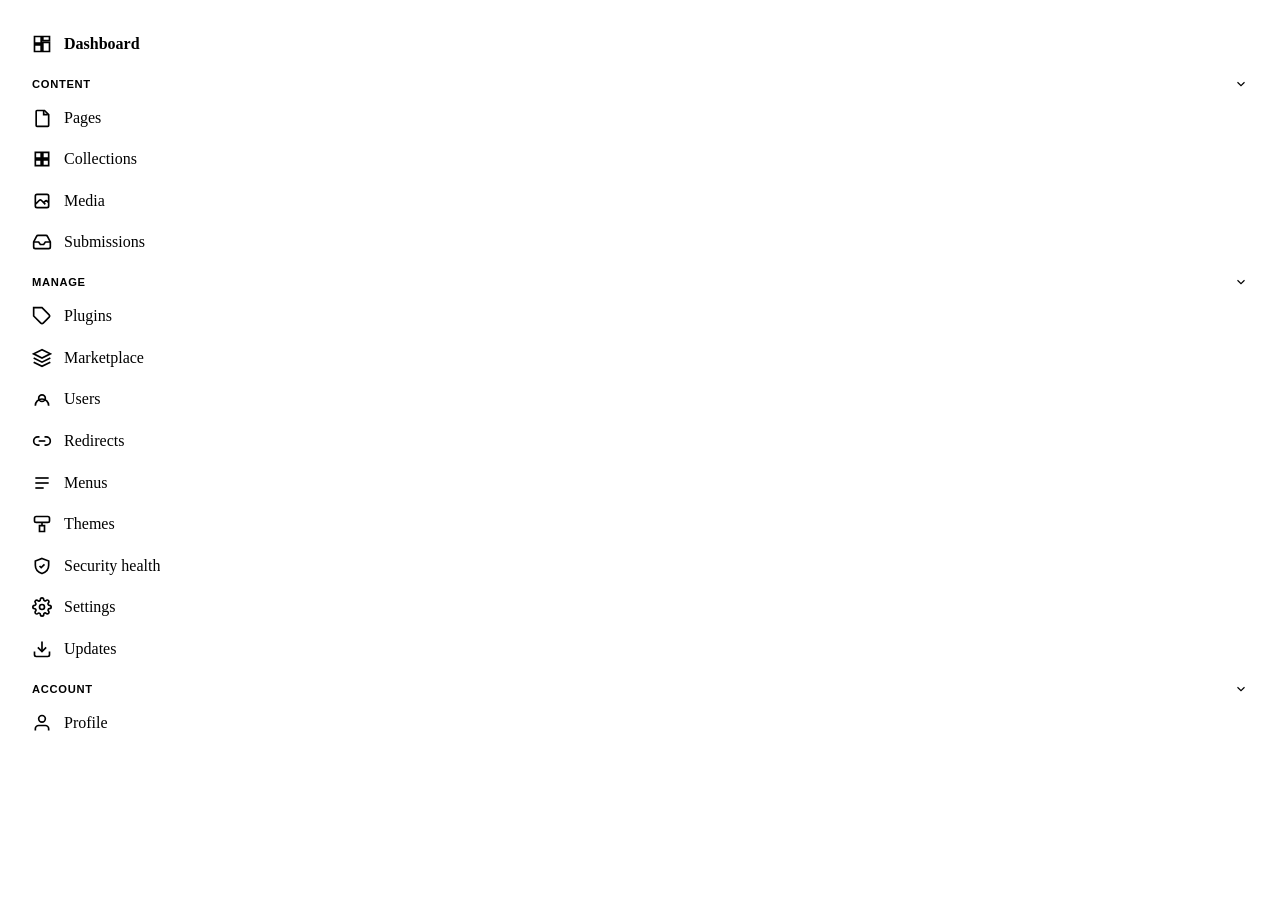
Sidebar › collapses and expands a group from its header, with aria-expanded tracking it
Click the button with class "nav-group-header" showing "Content" at (61, 84), box [20,71,1260,96]
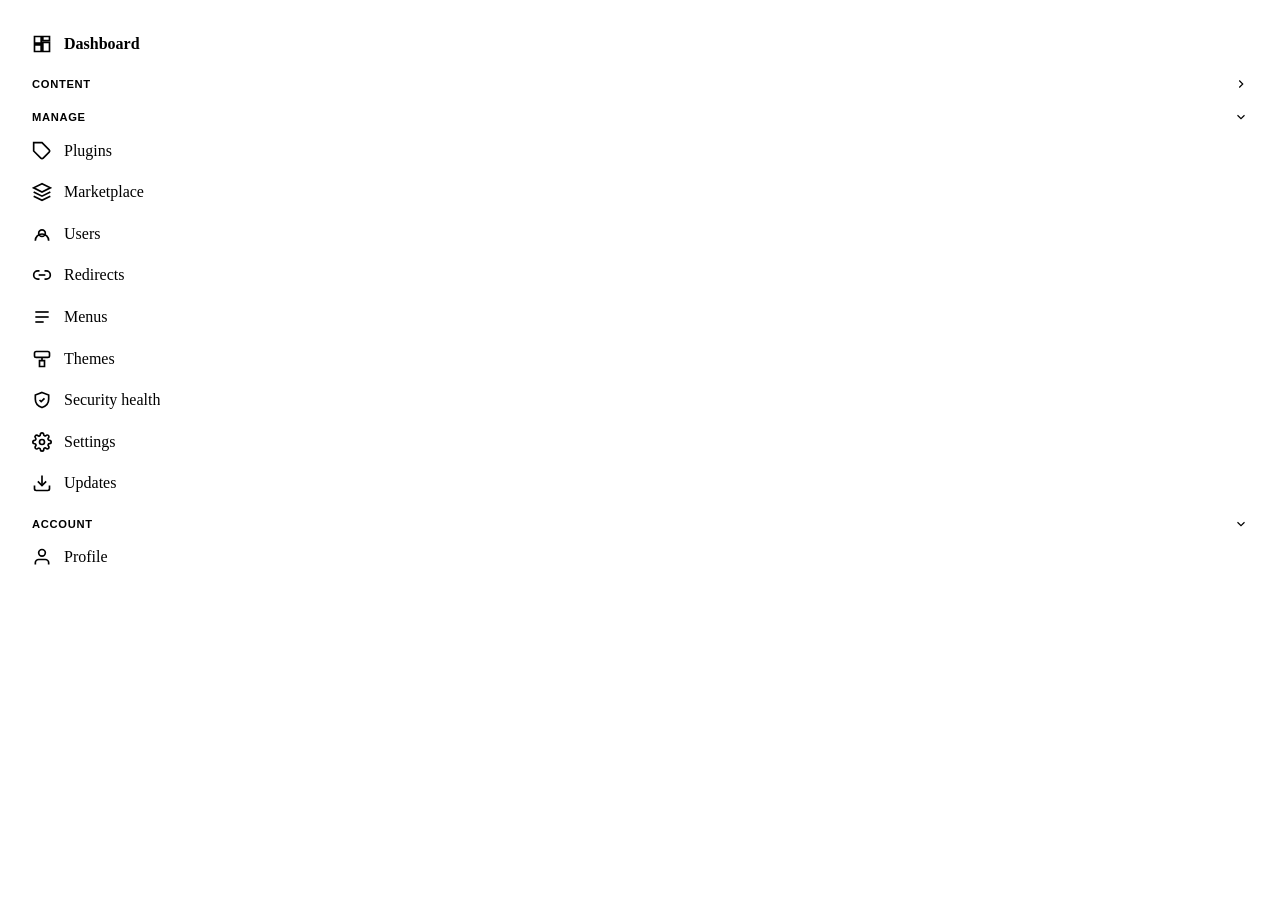
expect the button with class "nav-group-header" is collapsed: met
Click the button with class "nav-group-header" showing "Content" at (61, 84), box [20,71,1260,96]
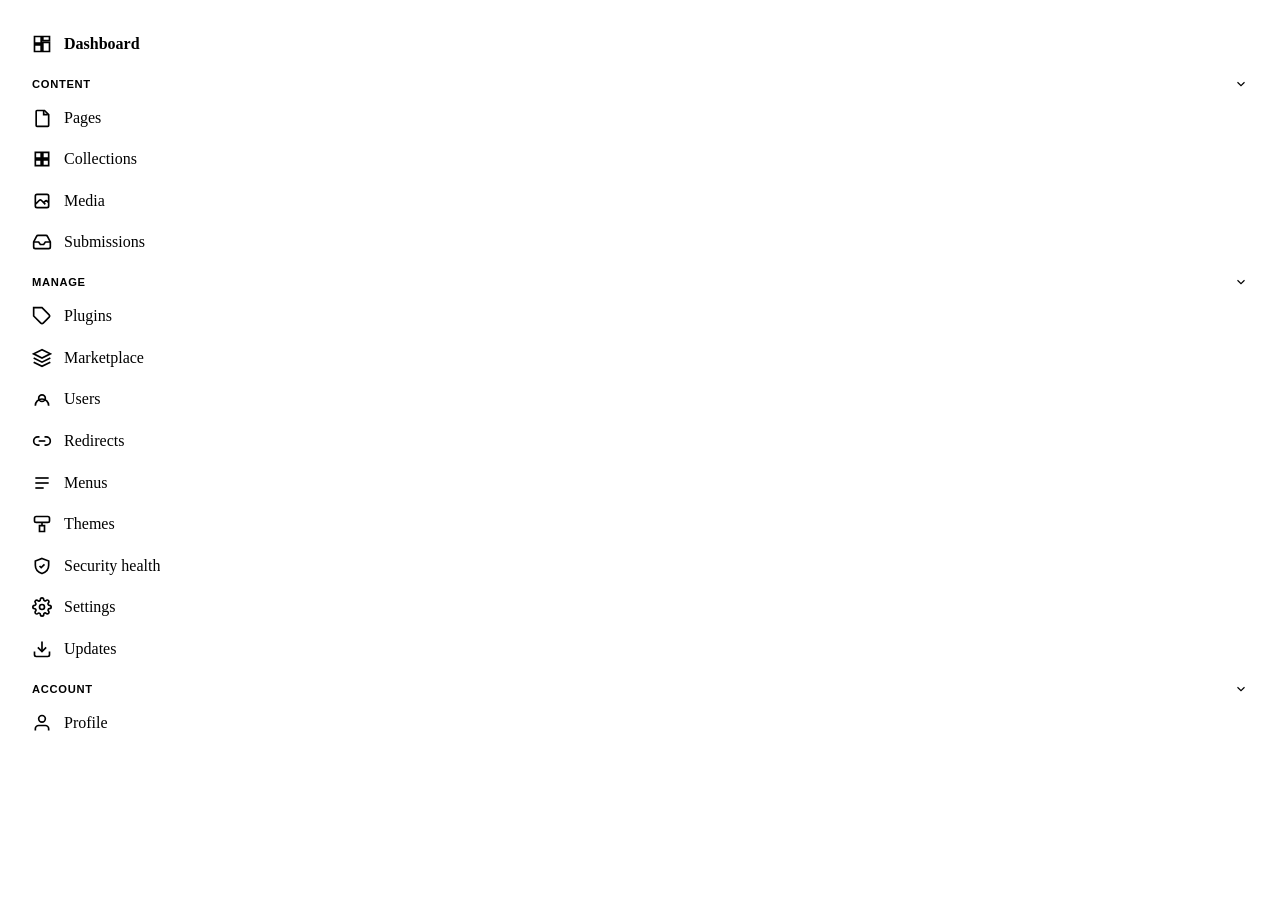
expect the button with class "nav-group-header" is expanded: met, box [20,71,1260,96]
